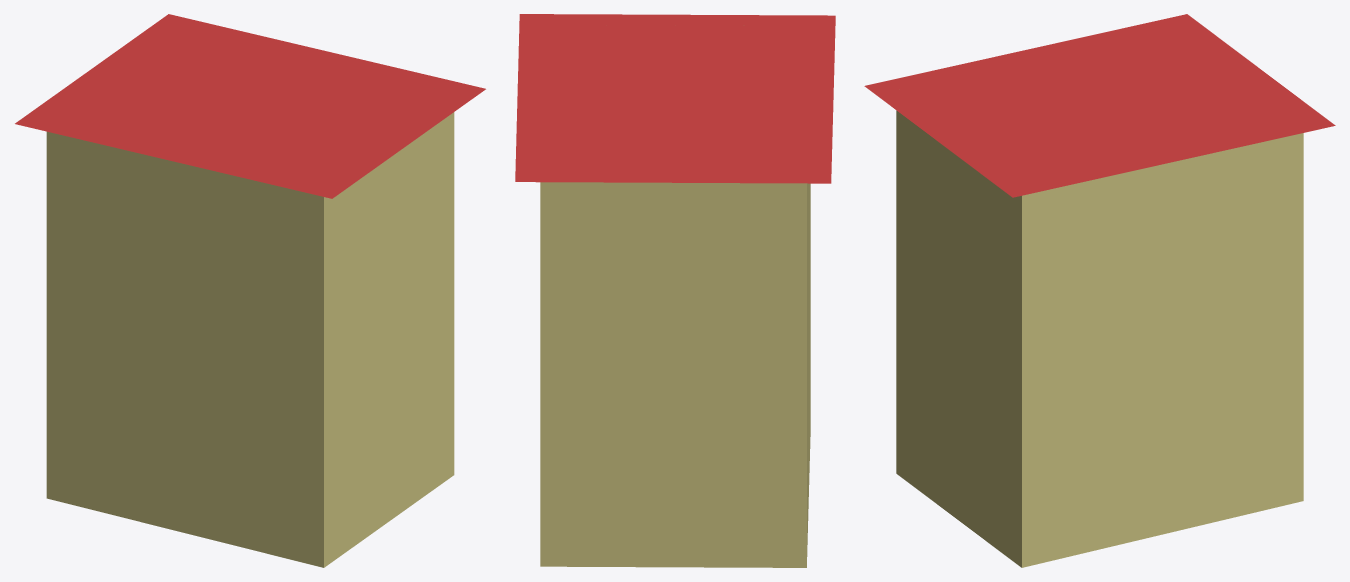
3 renders of one model, left to right at view 1: azimuth 30°, elevation 25°; view 2: azimuth 150°, elevation 25°; view 3: azimuth 270°, elevation 25°, orthographic. The views are drawn at different scales.
Size of the model in its own units: 9.42 by 9.96 by 8.94.
